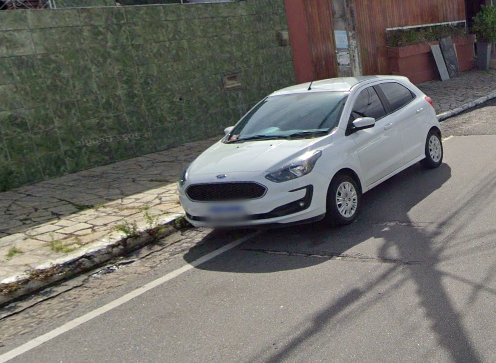car: (173, 63, 447, 237)
